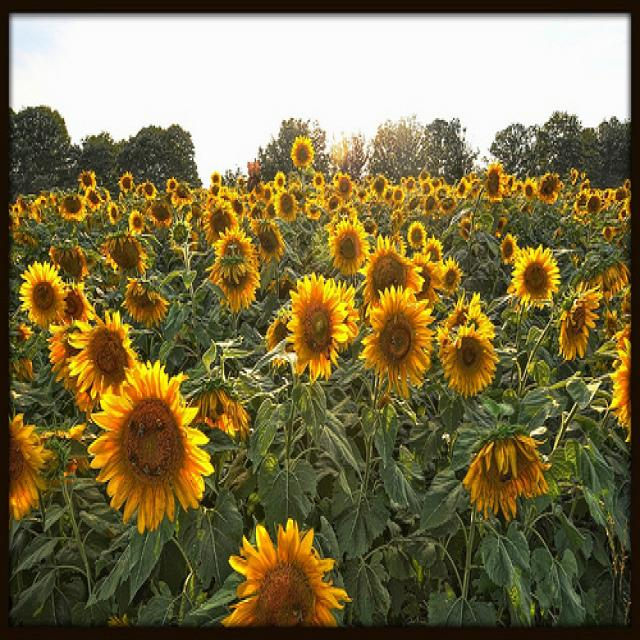sunflower: (88, 366, 215, 528), (221, 525, 350, 640), (359, 280, 435, 398), (467, 421, 548, 522), (280, 274, 348, 378), (70, 316, 138, 398), (440, 322, 500, 399), (8, 411, 47, 526), (556, 282, 602, 372), (18, 261, 69, 323), (121, 276, 175, 334), (324, 216, 372, 279), (516, 242, 560, 308), (102, 227, 152, 277), (250, 213, 286, 267), (202, 201, 238, 243), (480, 161, 511, 209), (56, 188, 87, 228), (274, 188, 300, 225), (291, 134, 316, 172), (147, 196, 174, 228), (402, 218, 429, 250), (79, 167, 101, 190)
